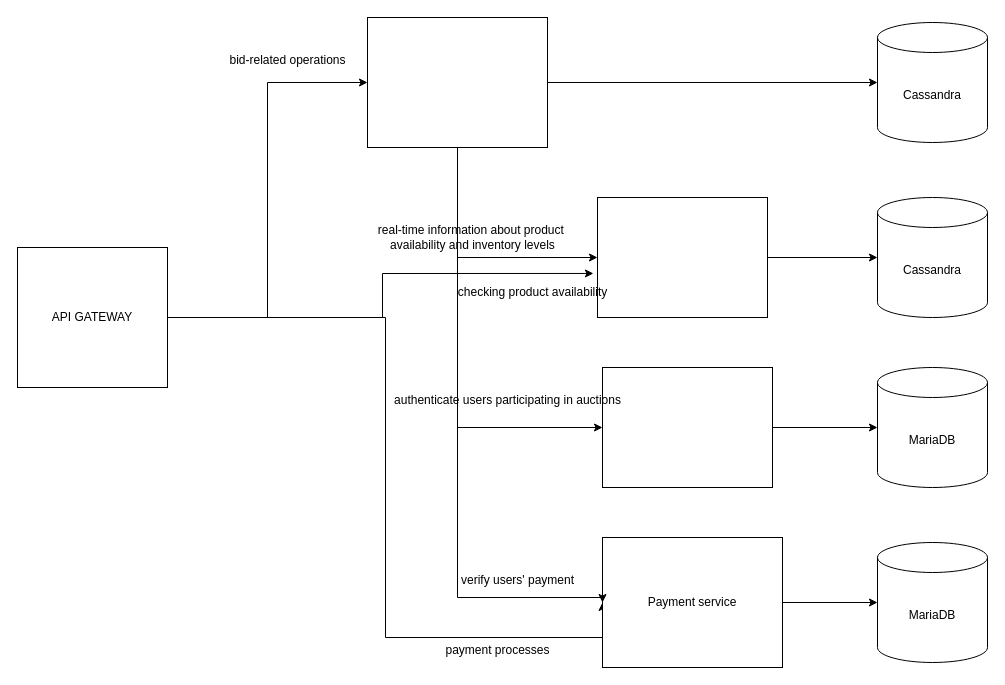
Image size: 1005x685. Some labels were removed from this diagram. Here are the shapes that lost their labels. From the top down, the centre of each, then its label:
pixel 457 82: Bidding engine service
pixel 682 257: Inventory Service
pixel 687 427: User service
